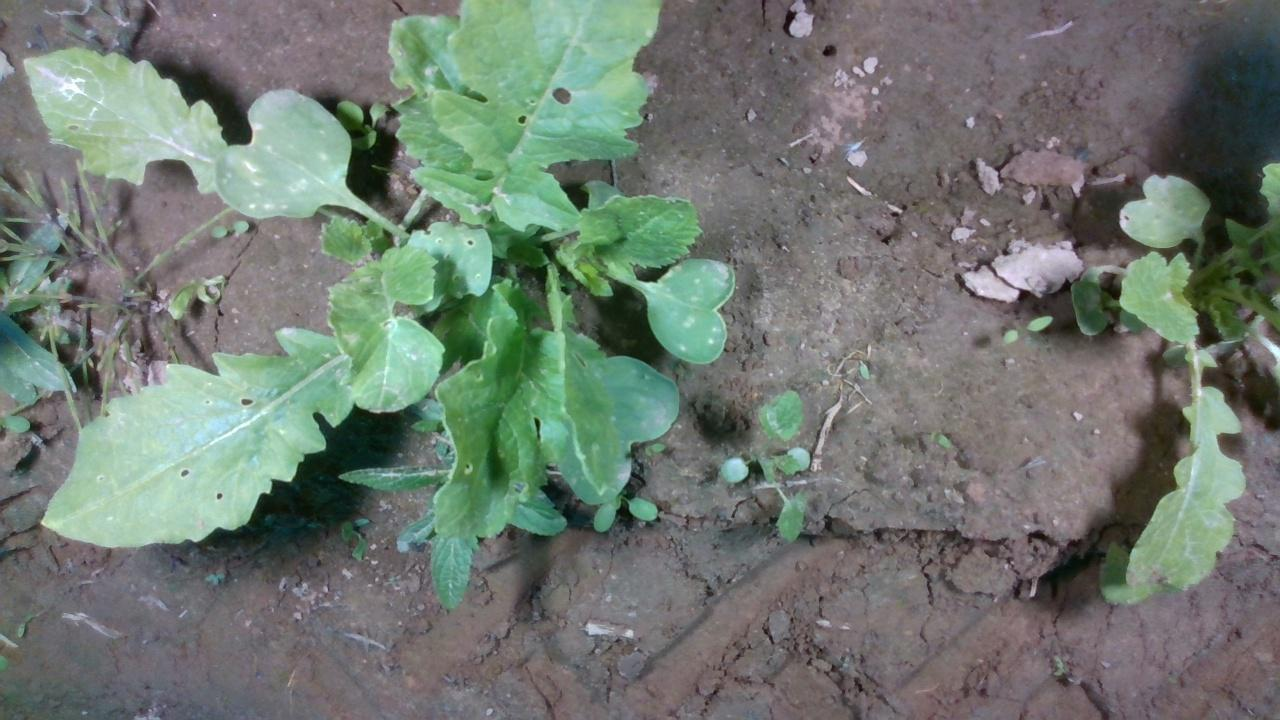weed: (998, 313, 1052, 345)
